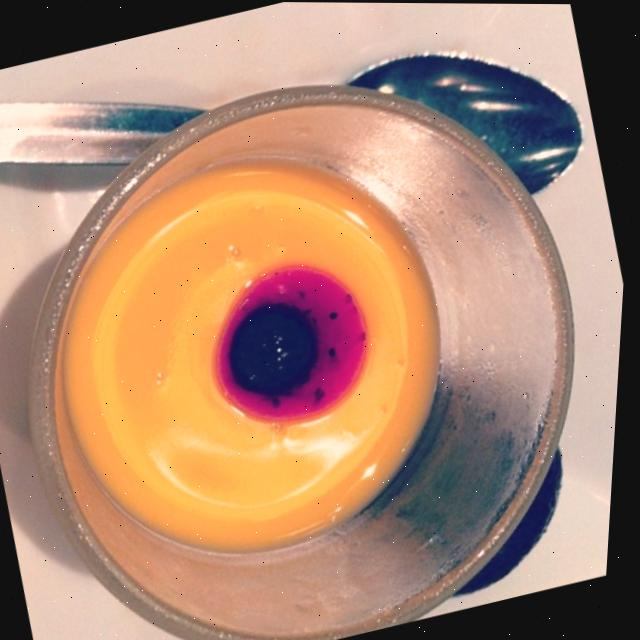蛋糕甜品: (0, 9, 640, 640)
